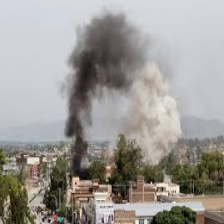smoke: (62, 16, 182, 152)
